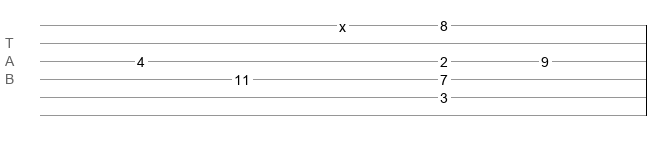11: (234, 72, 250, 82)
2: (440, 54, 448, 64)
3: (440, 90, 448, 100)
4: (137, 54, 145, 64)
7: (440, 72, 448, 82)
8: (440, 18, 448, 28)
9: (541, 54, 549, 64)
x: (339, 19, 346, 27)
